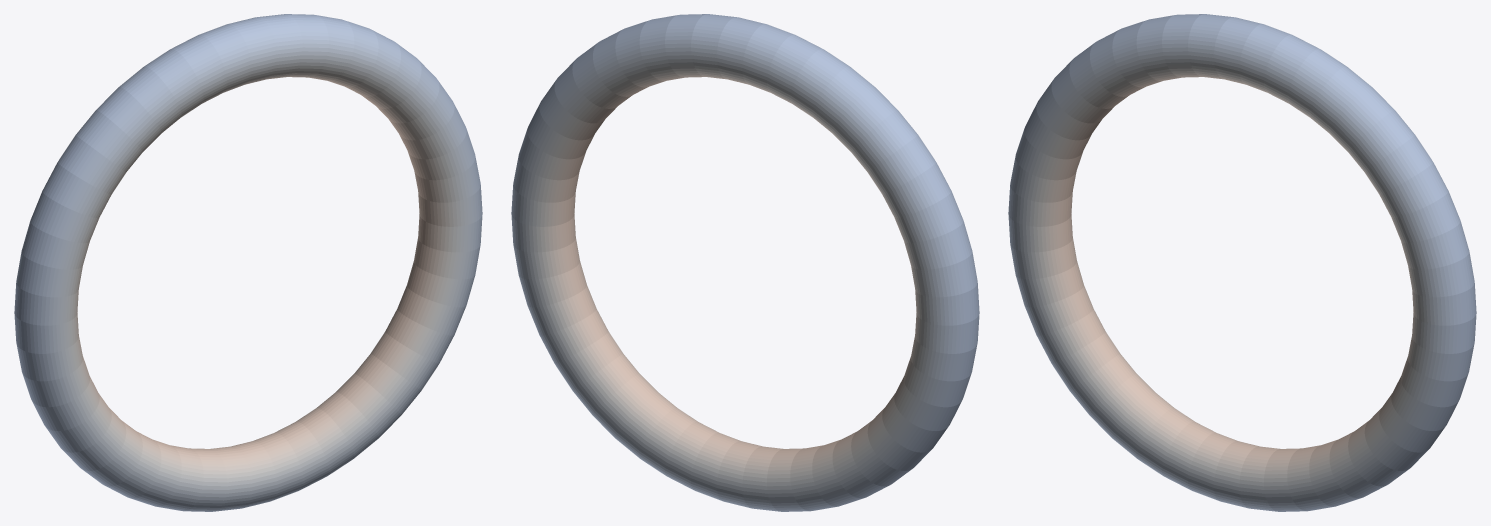
3 views of the same model, side by side, from view 1: azimuth 30°, elevation 25°; view 2: azimuth 150°, elevation 25°; view 3: azimuth 330°, elevation 25° (orthographic).
Parts seen in each view (by area): view 1: world; view 2: world; view 3: world.
Part boxes in pixels (<box>): world: <box>14,14,482,511</box>; world: <box>511,14,979,511</box>; world: <box>1008,14,1476,511</box>.
Size of the model in its own units: 32.53 by 32.47 by 3.86.
